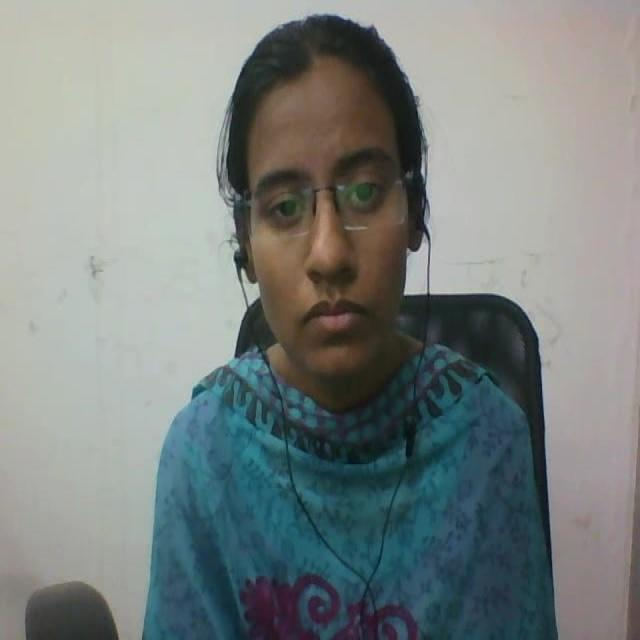Engaged: (212, 0, 444, 448)
